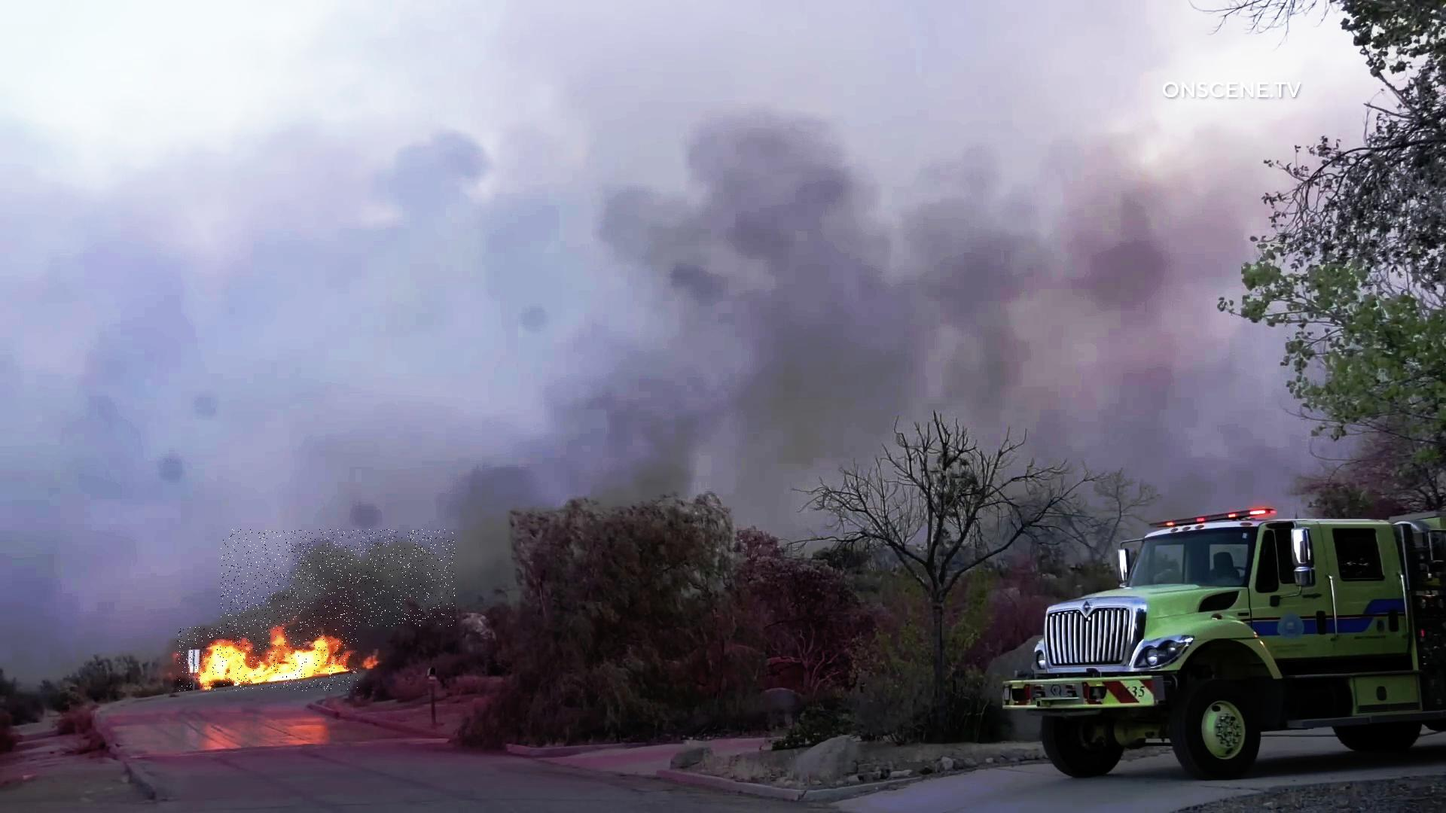fire: (177, 627, 358, 691)
smoke: (221, 529, 456, 626)
